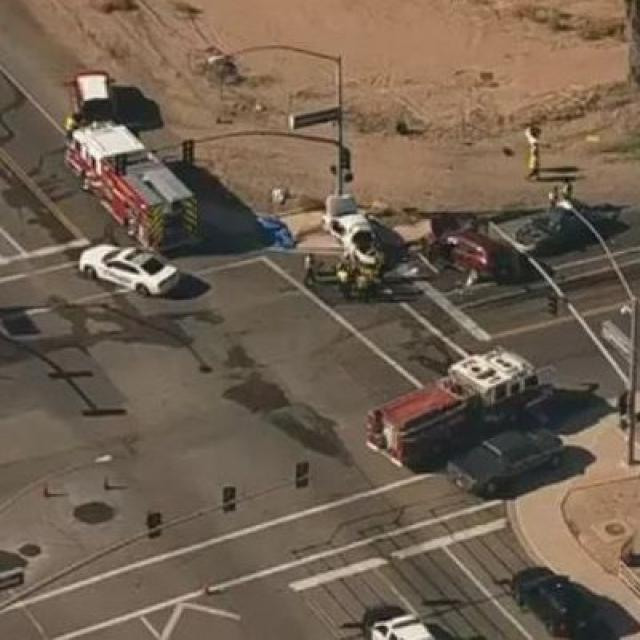traffic_incident: (314, 196, 402, 296)
